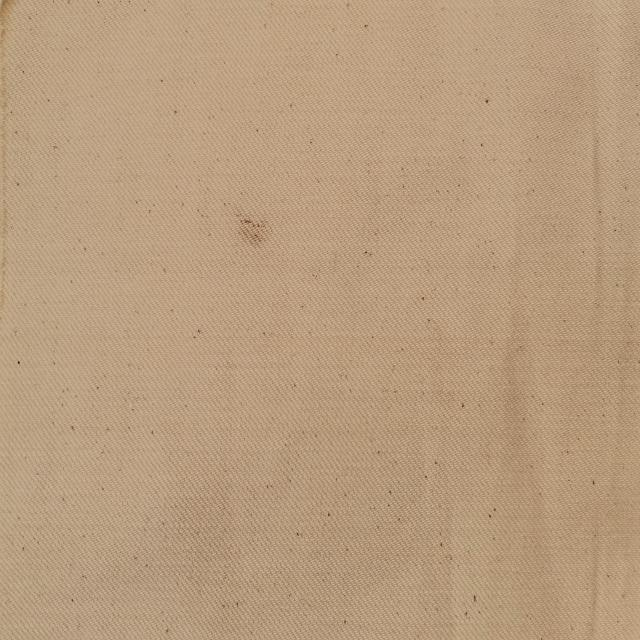taaaches: (229, 190, 274, 262)
